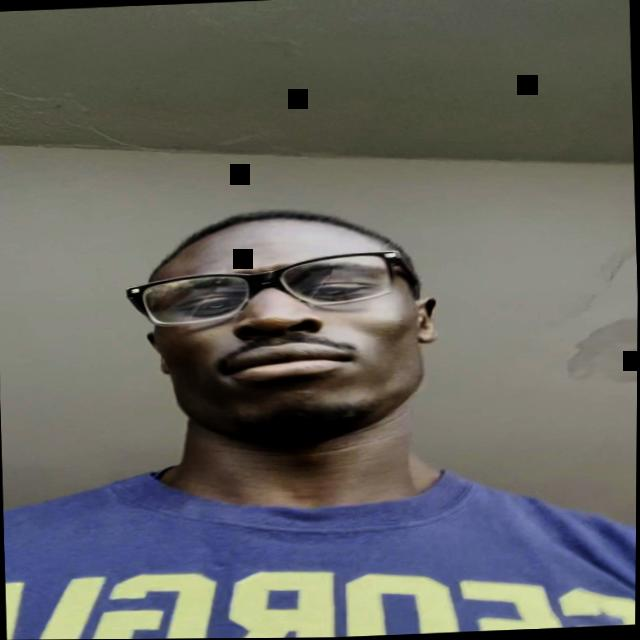NO-Mask: (138, 213, 418, 446)
